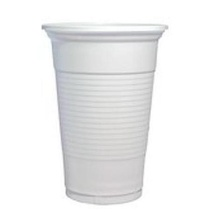glass: (34, 13, 178, 211)
